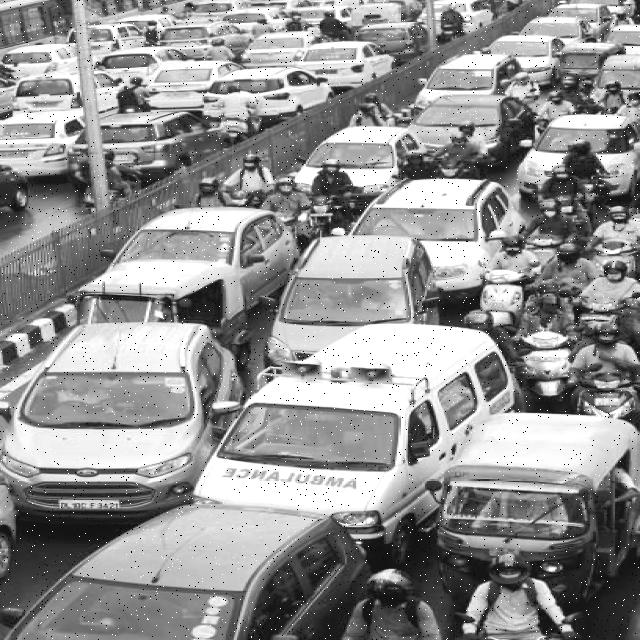Ambulance: (193, 327, 507, 528), (202, 394, 410, 494)
